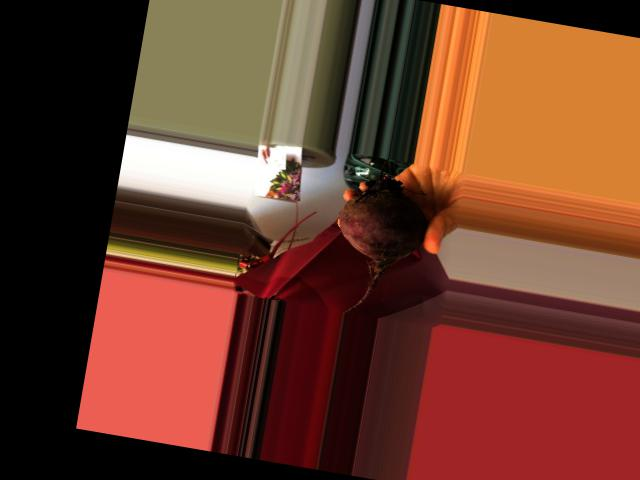beet: (323, 152, 436, 323)
